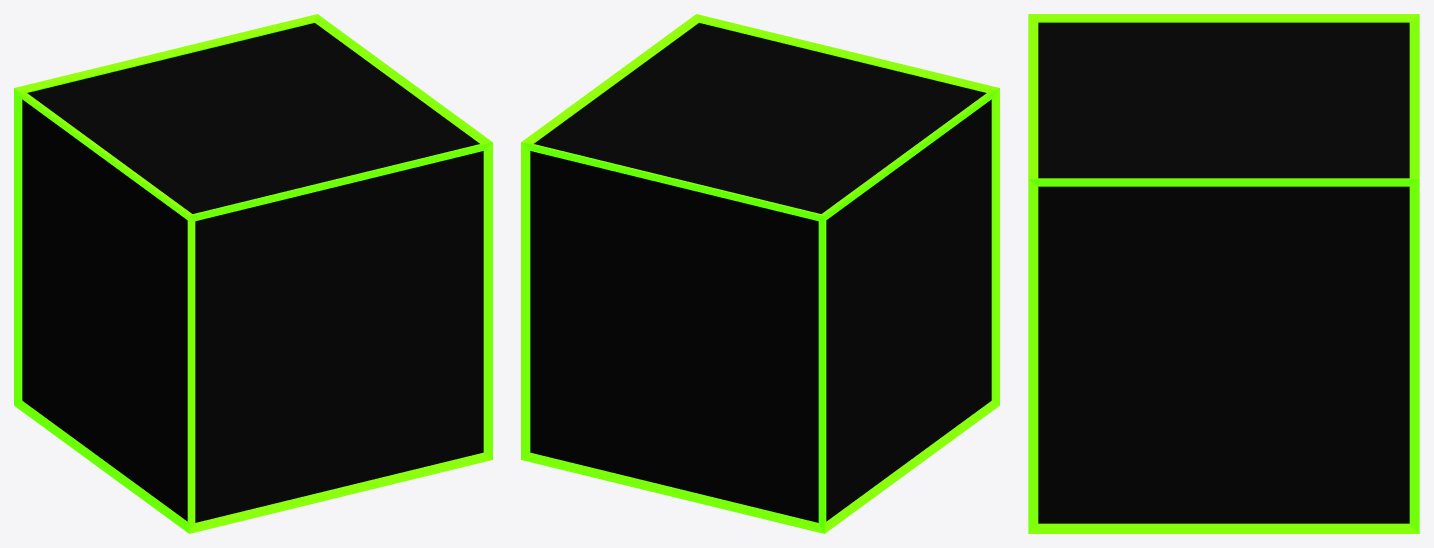
The model's file is cube-fuchi.glb.
The picture shows the model from 3 angles, left to right: view 1: azimuth 30°, elevation 25°; view 2: azimuth 150°, elevation 25°; view 3: azimuth 270°, elevation 25°; orthographic projection. The views are drawn at different scales.
Parts seen in each view (by area): view 1: Cube.001, Cube; view 2: Cube.001, Cube; view 3: Cube.001, Cube.
Boxes of the visible parts, <box> form: Cube.001: <box>22,23,483,522</box>; Cube: <box>14,14,492,533</box>; Cube.001: <box>530,23,991,522</box>; Cube: <box>521,14,999,533</box>; Cube.001: <box>1038,22,1409,523</box>; Cube: <box>1028,14,1419,533</box>.
Bounding box in the file's own units: 2.04 × 2.04 × 2.04.
